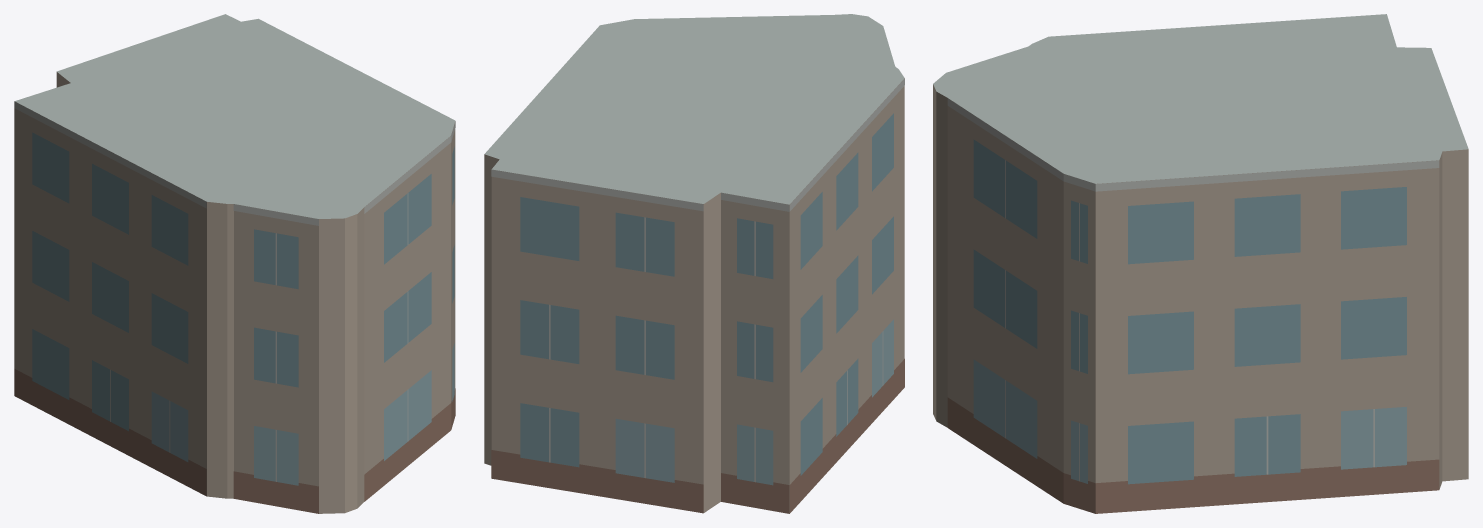
File: survey-upis-32704254.glb
3 renders of one model, left to right at view 1: azimuth 30°, elevation 25°; view 2: azimuth 150°, elevation 25°; view 3: azimuth 270°, elevation 25°, orthographic. The views are drawn at different scales.
Visible parts, largest first — view 1: survey-upis-32704254.tmp; view 2: survey-upis-32704254.tmp; view 3: survey-upis-32704254.tmp.
Part boxes in pixels (left/top/right/bottom): survey-upis-32704254.tmp: left=14, top=14, right=455, bottom=513; survey-upis-32704254.tmp: left=484, top=14, right=904, bottom=513; survey-upis-32704254.tmp: left=933, top=14, right=1468, bottom=513.
Size of the model in its own units: 11.49 by 10.4 by 15.31.
